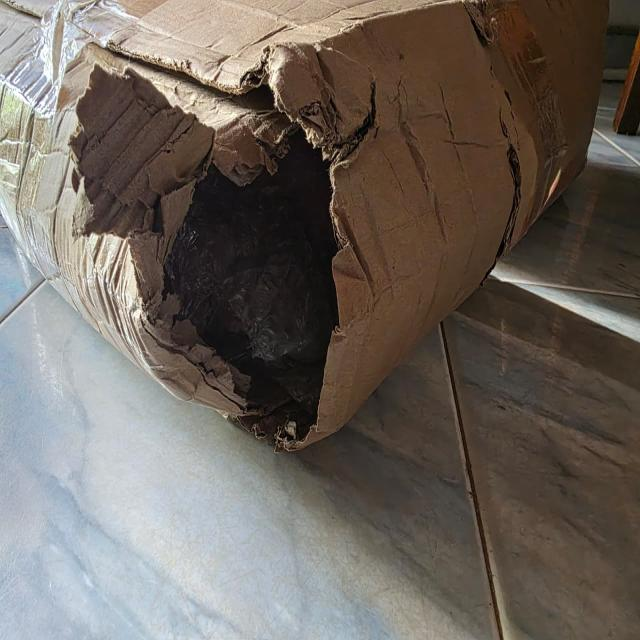carton_box: (0, 0, 638, 464)
package_damage: (49, 29, 398, 460), (428, 0, 558, 297)
